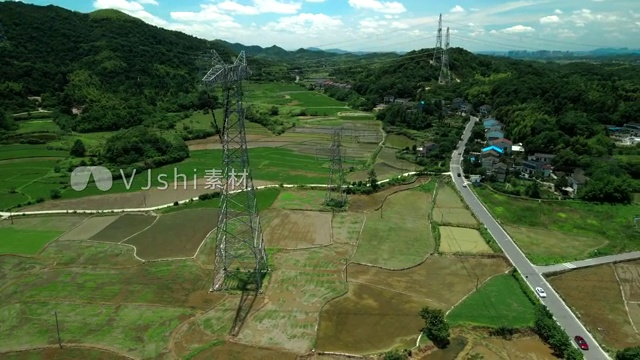tower_body: (196, 47, 275, 296), (312, 122, 356, 210)
tower_foot: (210, 245, 270, 292)
tower_head: (199, 49, 257, 86)
